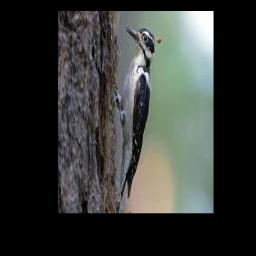Woodpecker: (113, 26, 161, 207)
